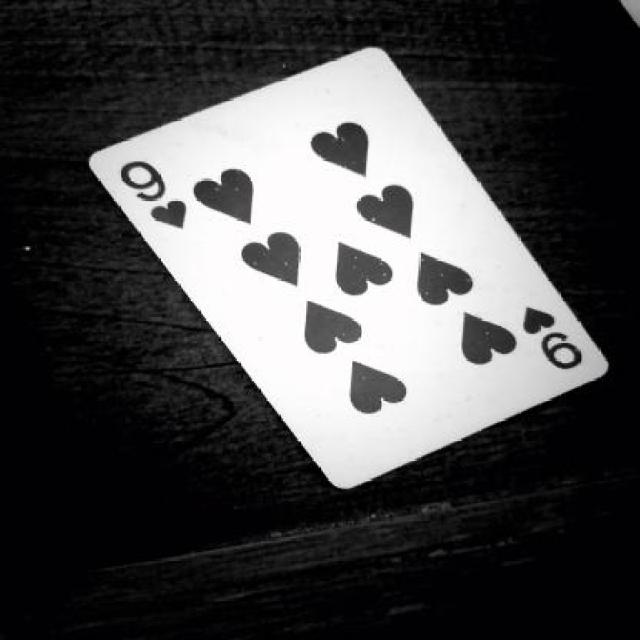9H: (112, 141, 192, 244), (510, 304, 598, 378)
